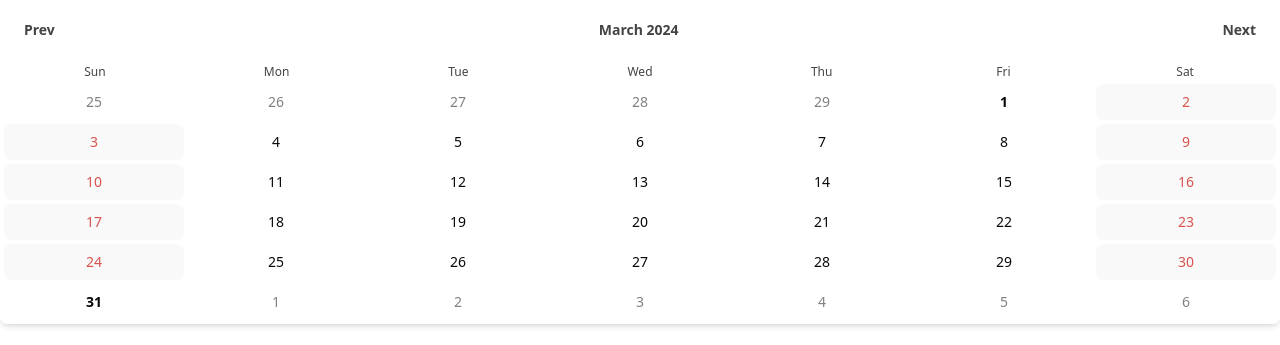
Scenario: Label – navigation reactivity › updates when user clicks Next
Step 1. Click the button with test id "next" → (1239, 30), box [1214,16,1264,44]
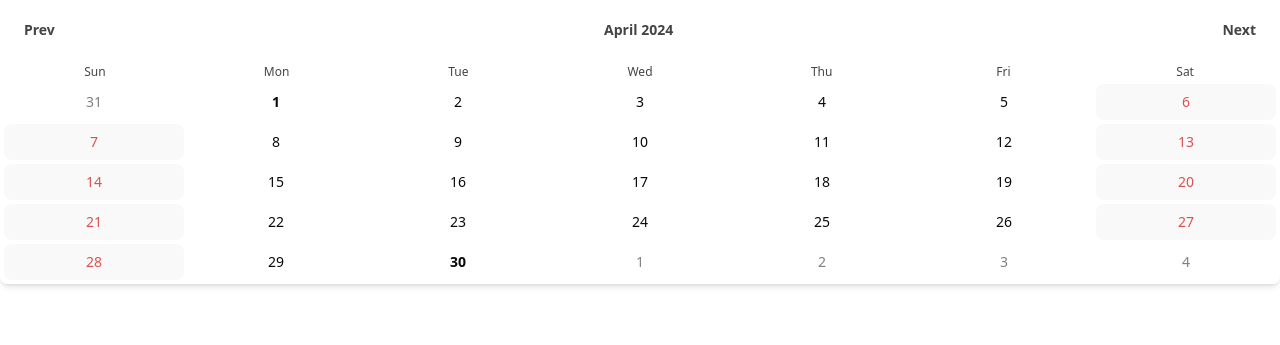
Result: the text with test id "label" shows "April" at [604,20,673,39]
